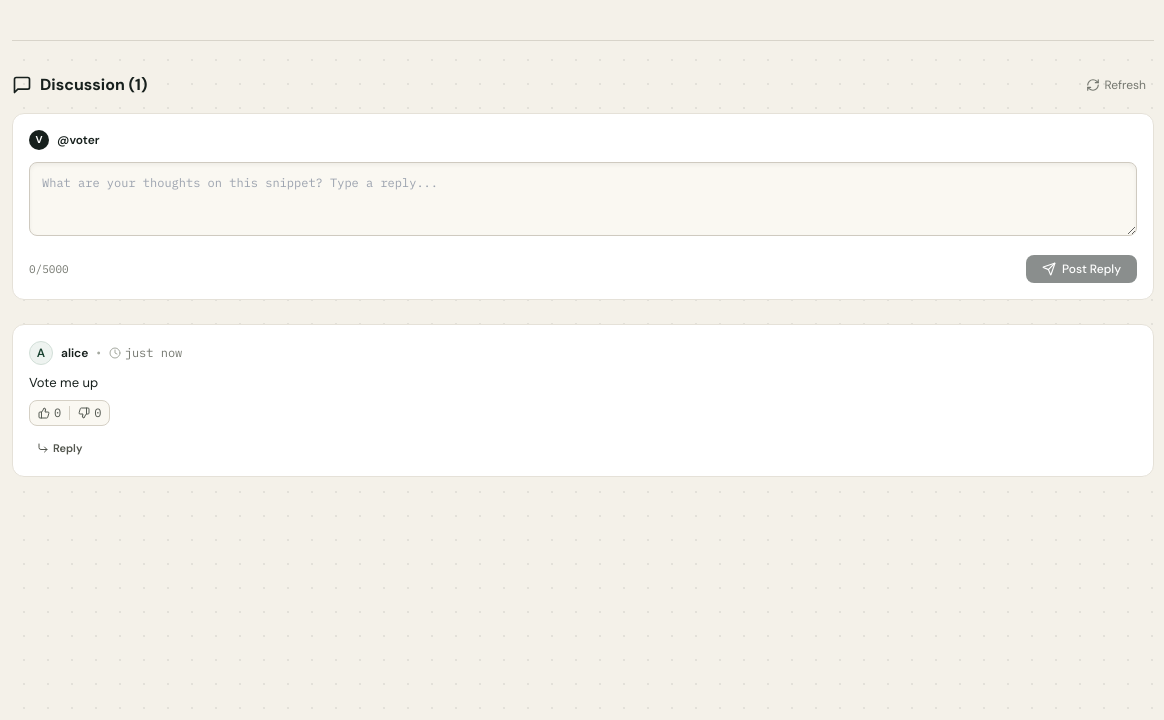
it: PasteRepliesSection › optimistically updates upvote count when upvote button is clicked
Click the button with test id "reply-200-upvote-btn": {"x": 50, "y": 413} [30,401,69,425]
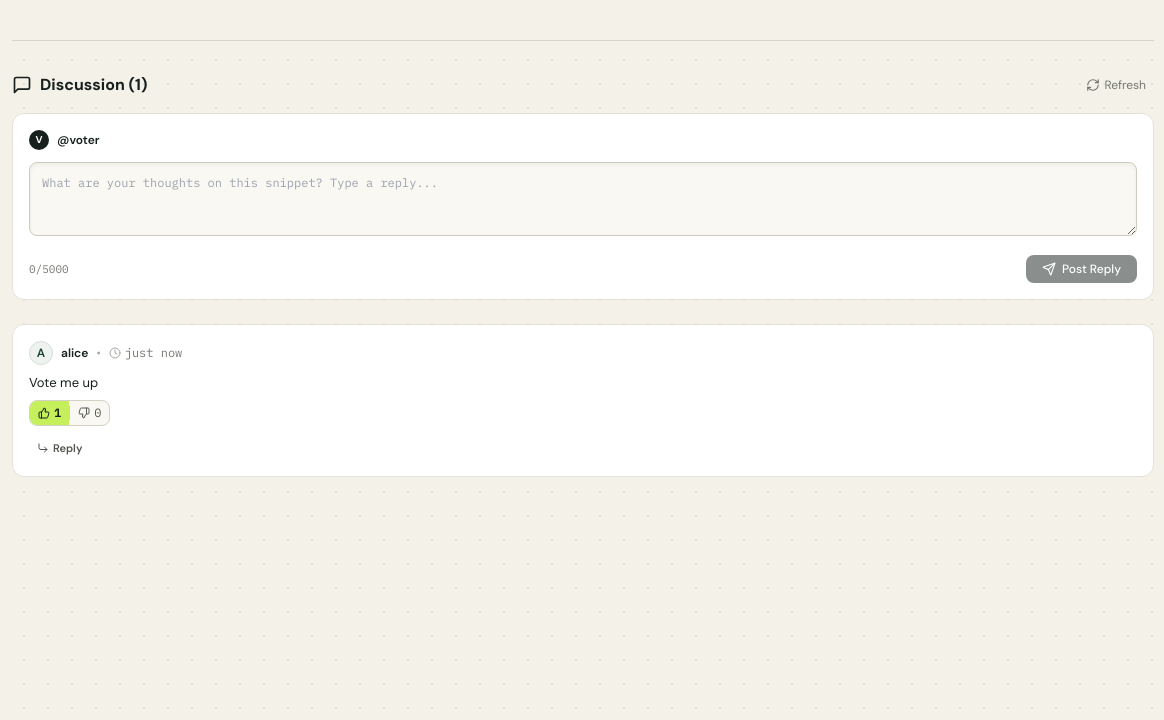
Check: the text with test id "reply-200-upvotes" reads "1", box [54,405,61,420]
